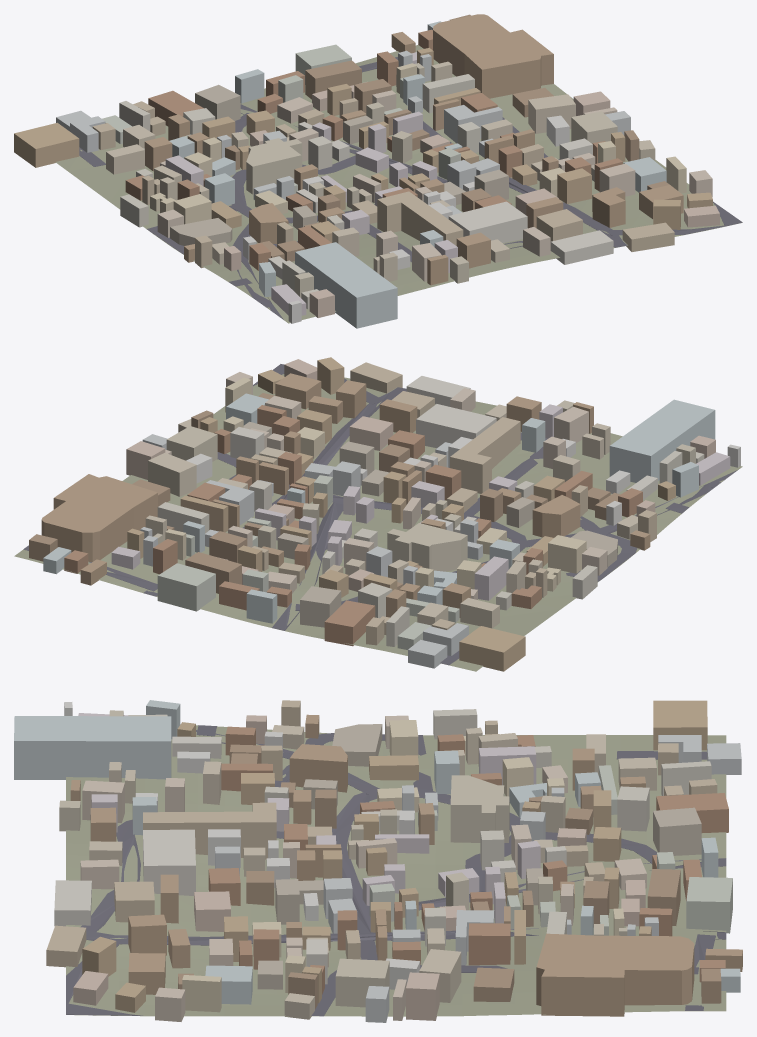
Rendered from chunk_9_3.glb.
The picture shows the model from 3 angles, top to bottom: view 1: azimuth 30°, elevation 25°; view 2: azimuth 150°, elevation 25°; view 3: azimuth 270°, elevation 25°; orthographic projection. The views are drawn at different scales.
Parts seen in each view (by area): view 1: geometry_242, geometry_190, geometry_241, geometry_2, geometry_4, geometry_207, geometry_141, geometry_182, geometry_192, geometry_189, geometry_253, geometry_3 (+59 smaller); view 2: geometry_242, geometry_190, geometry_241, geometry_4, geometry_2, geometry_207, geometry_141, geometry_237, geometry_1, geometry_195, geometry_189, geometry_186 (+70 smaller); view 3: geometry_242, geometry_190, geometry_241, geometry_2, geometry_4, geometry_141, geometry_237, geometry_245, geometry_1, geometry_194, geometry_207, geometry_186 (+103 smaller).
Boxes of the visible parts, box(x1,y1,x2,y2) form: geometry_242: box(55, 45, 742, 323); geometry_190: box(433, 14, 553, 98); geometry_241: box(295, 242, 397, 328); geometry_2: box(377, 191, 463, 245); geometry_4: box(246, 138, 302, 194); geometry_207: box(14, 122, 79, 167); geometry_141: box(448, 201, 527, 243); geometry_182: box(550, 230, 613, 264); geometry_192: box(305, 60, 361, 99); geometry_189: box(528, 94, 575, 133); geometry_253: box(232, 113, 283, 319); geometry_3: box(170, 218, 232, 245); geometry_242: box(14, 374, 742, 671); geometry_190: box(41, 474, 157, 561); geometry_241: box(609, 399, 715, 482); geometry_4: box(387, 523, 467, 571); geometry_2: box(450, 417, 520, 493); geometry_207: box(459, 626, 525, 671); geometry_141: box(416, 404, 496, 448); geometry_237: box(157, 563, 215, 611); geometry_1: box(532, 495, 580, 537); geometry_195: box(324, 600, 375, 646); geometry_189: box(148, 453, 196, 496); geometry_186: box(166, 426, 217, 461); geometry_242: box(66, 725, 726, 1016); geometry_190: box(536, 933, 694, 1016); geometry_241: box(14, 716, 171, 779); geometry_2: box(143, 802, 276, 859); geometry_4: box(450, 775, 509, 842); geometry_141: box(143, 829, 195, 895); geometry_237: box(686, 877, 732, 933); geometry_245: box(332, 790, 377, 960); geometry_1: box(289, 744, 347, 792); geometry_194: box(653, 807, 701, 855); geometry_207: box(653, 700, 707, 750); geometry_186: box(335, 958, 389, 1007).
Size of the model in its own units: 266 by 23.82 by 276.
